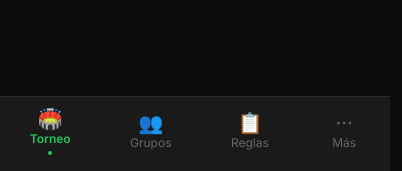
Test: BottomNav › muestra Admin si isSuperAdmin es true
Step 1. Click the text "Más" → (344, 143), box 332,135 -> 356,151
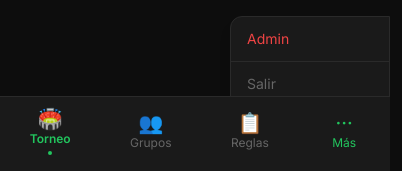
expect the link "Admin" is shown: met, box 231,17 -> 389,62
